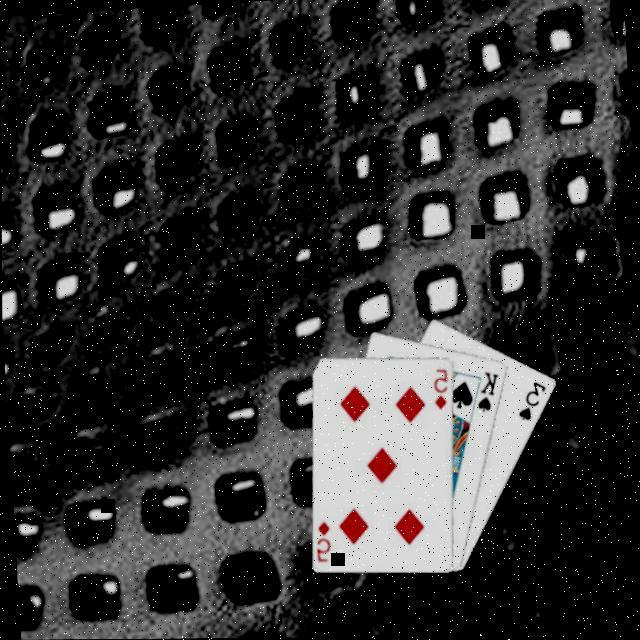3S: (515, 377, 552, 423)
5D: (431, 365, 454, 412), (314, 516, 336, 563)
KS: (473, 367, 505, 415)
